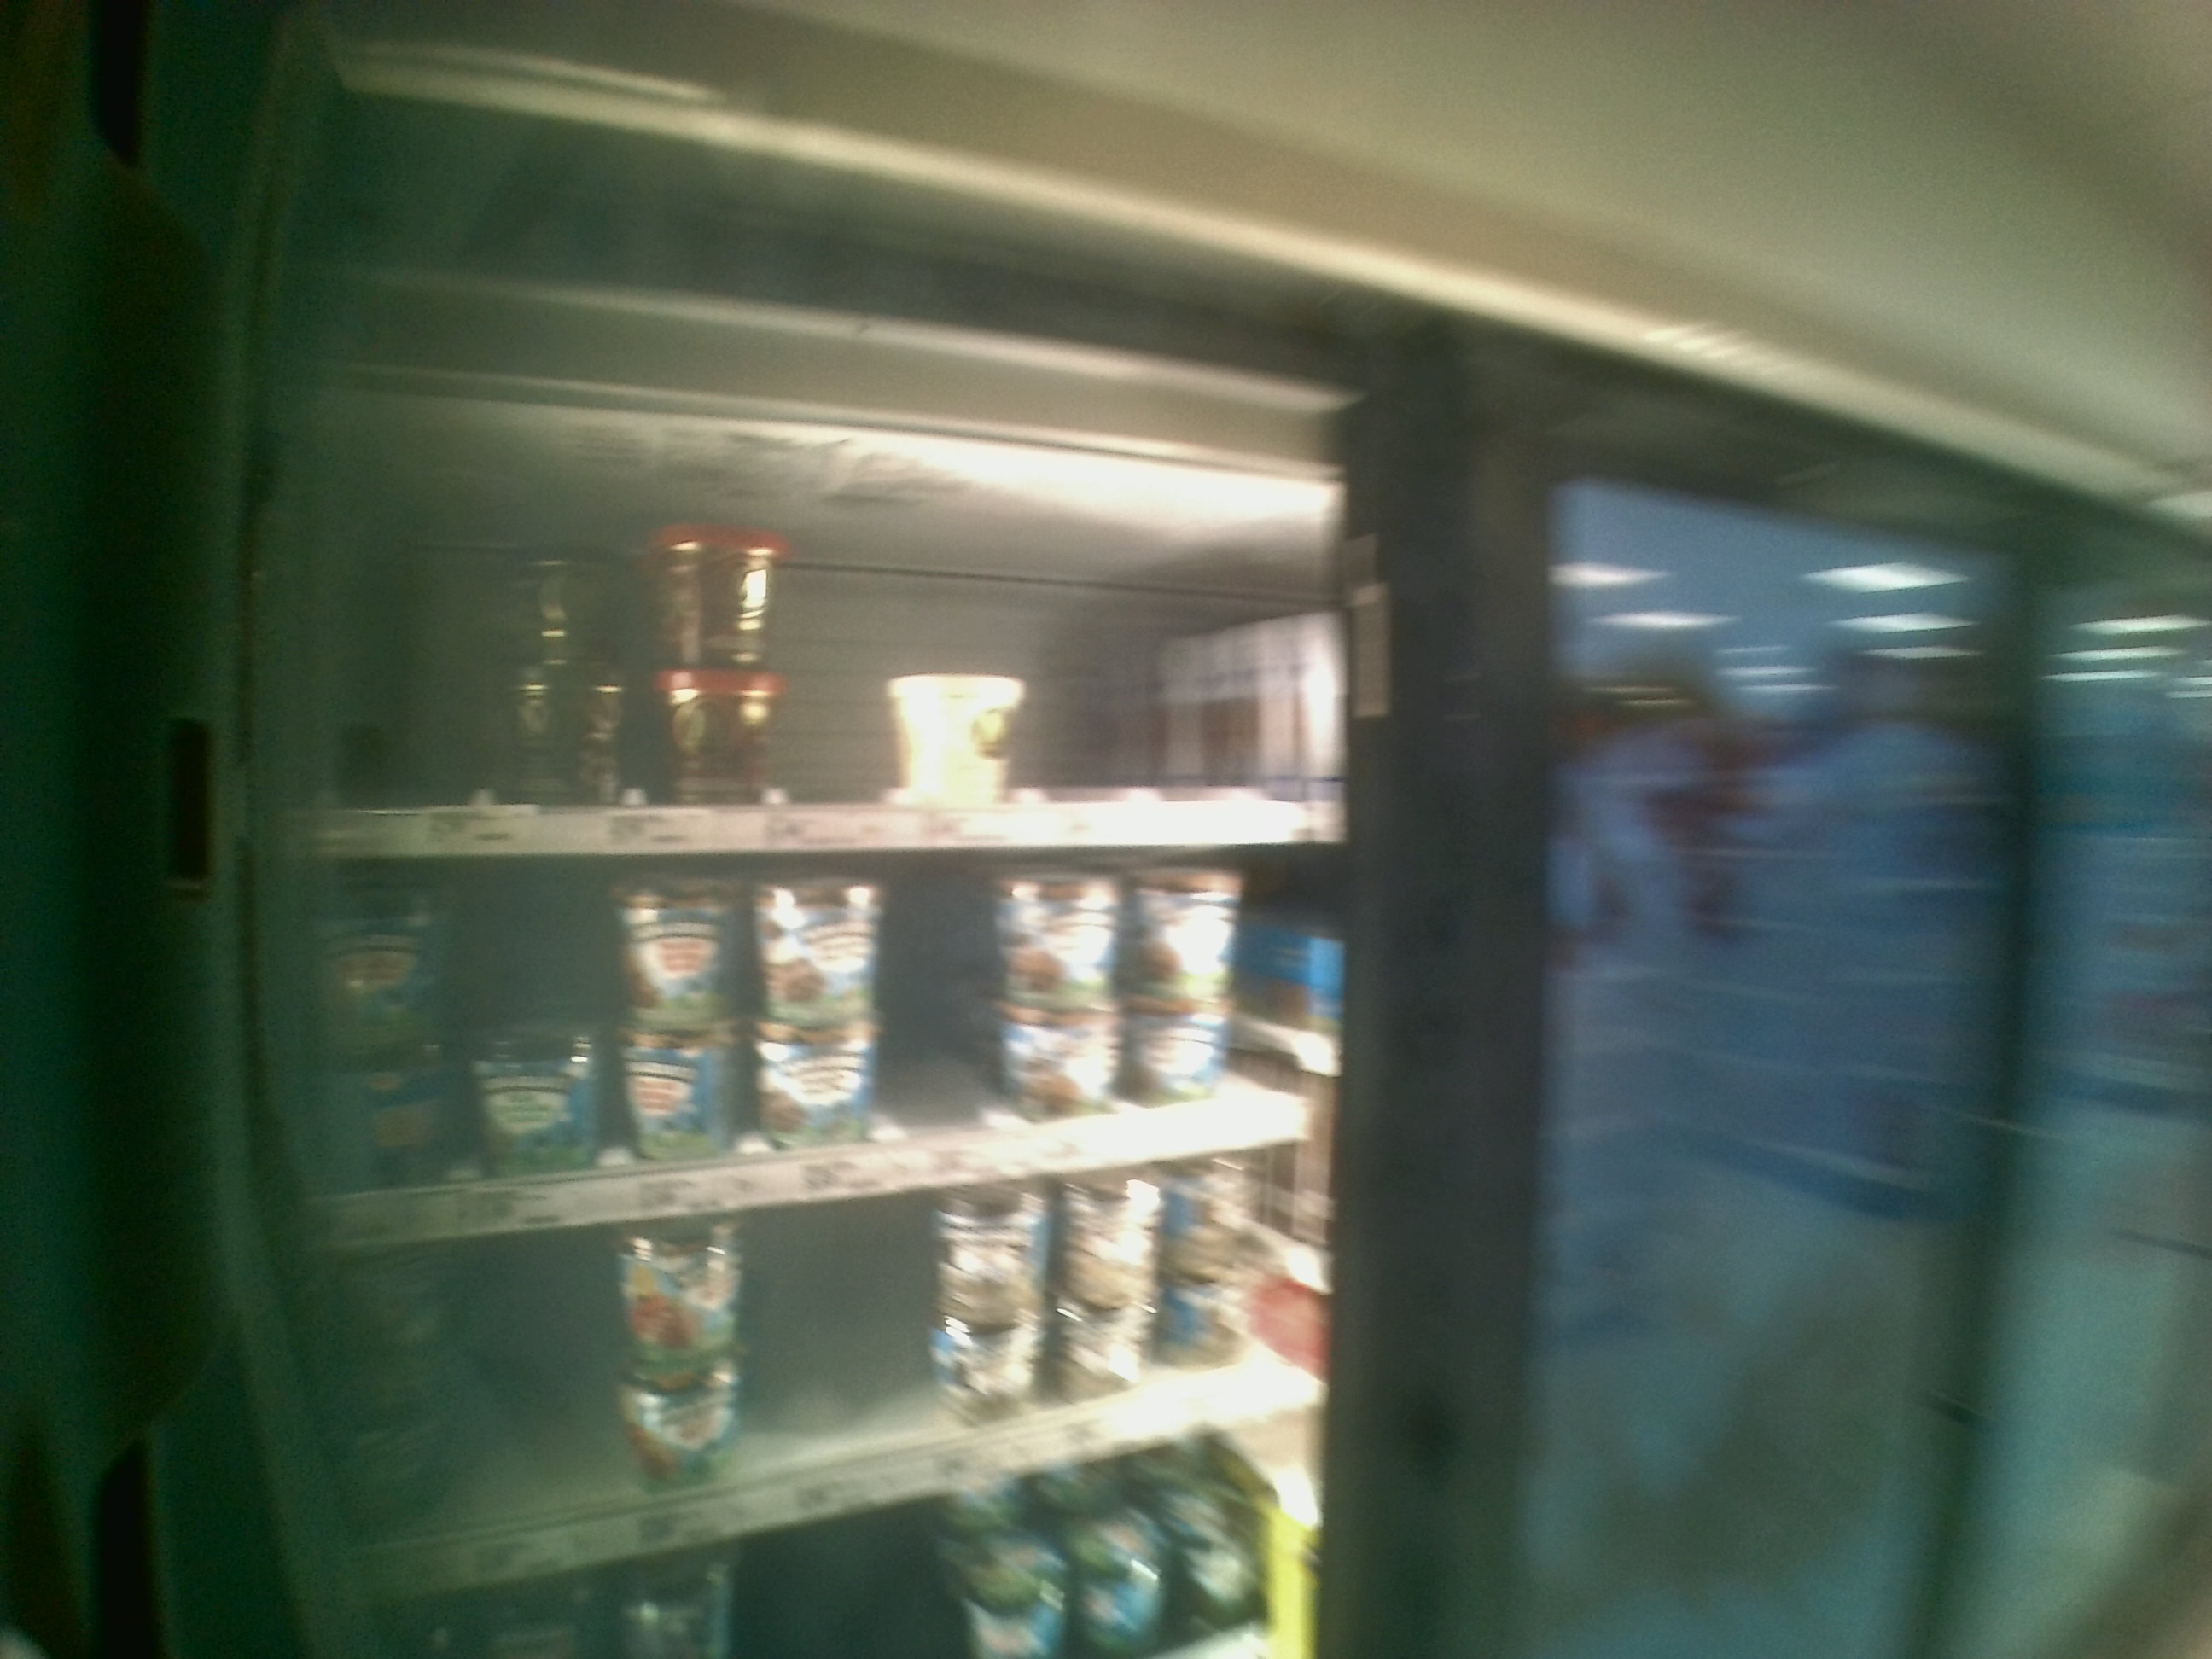shelf: (298, 396, 1359, 843), (296, 836, 1338, 1258)
